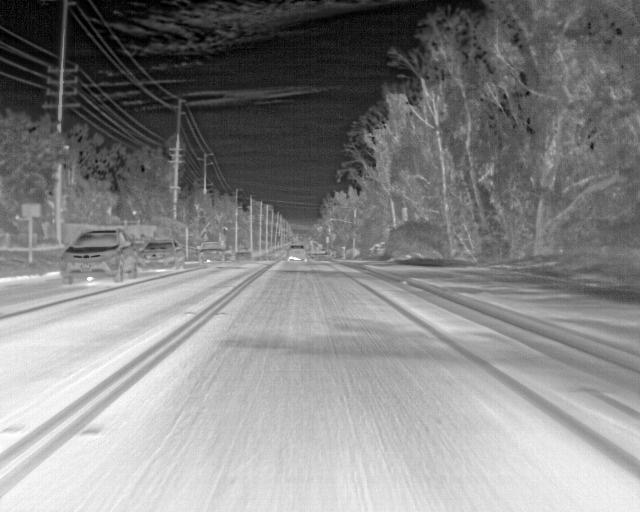car: (60, 228, 139, 283), (140, 239, 185, 271), (198, 240, 225, 260), (287, 245, 306, 261), (235, 246, 251, 260)
